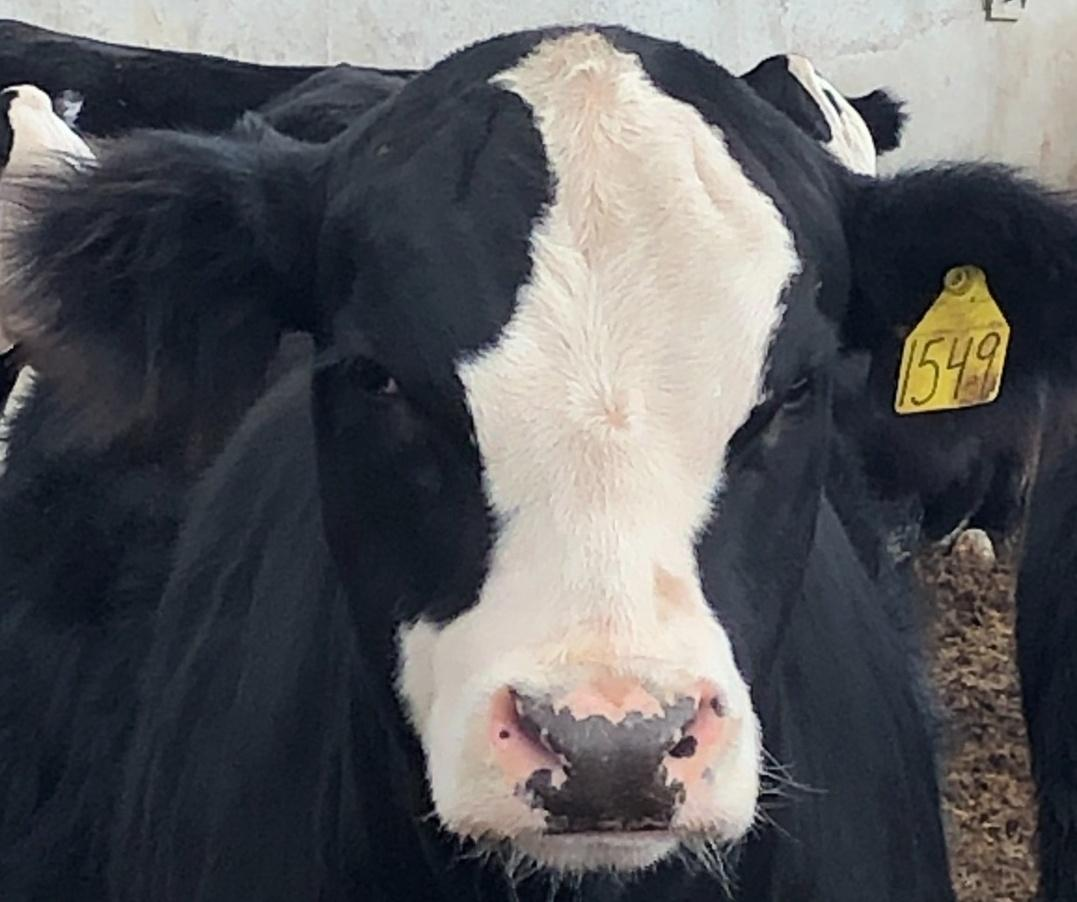muzzles: (411, 670, 780, 879)
